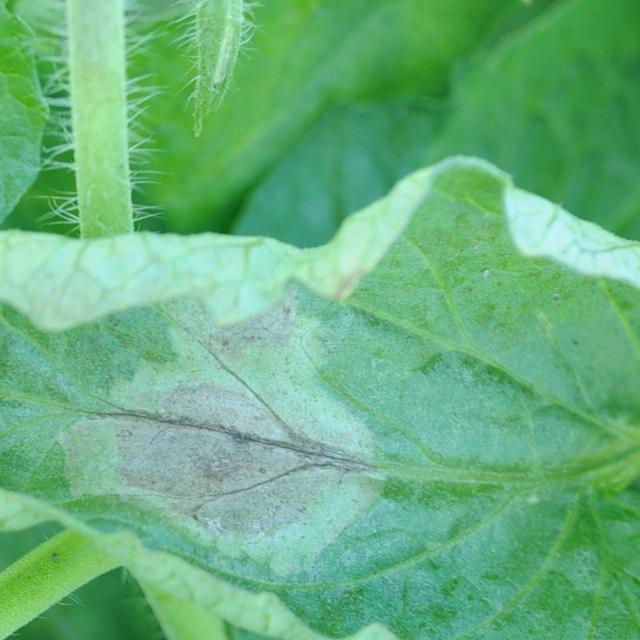Tomato leaf late blight: (0, 214, 640, 640)
